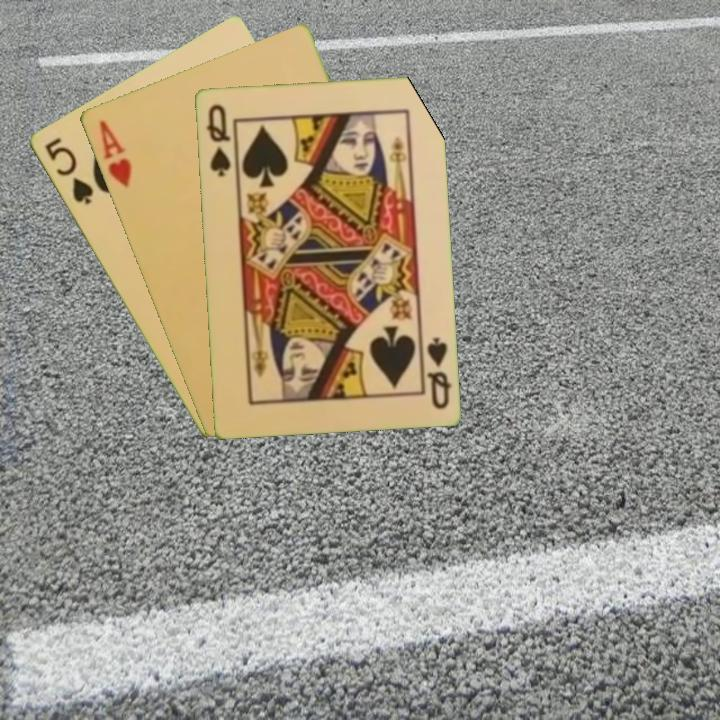5s: (40, 133, 96, 208)
Ah: (95, 116, 134, 190)
Qs: (417, 332, 454, 412), (203, 100, 233, 179)
